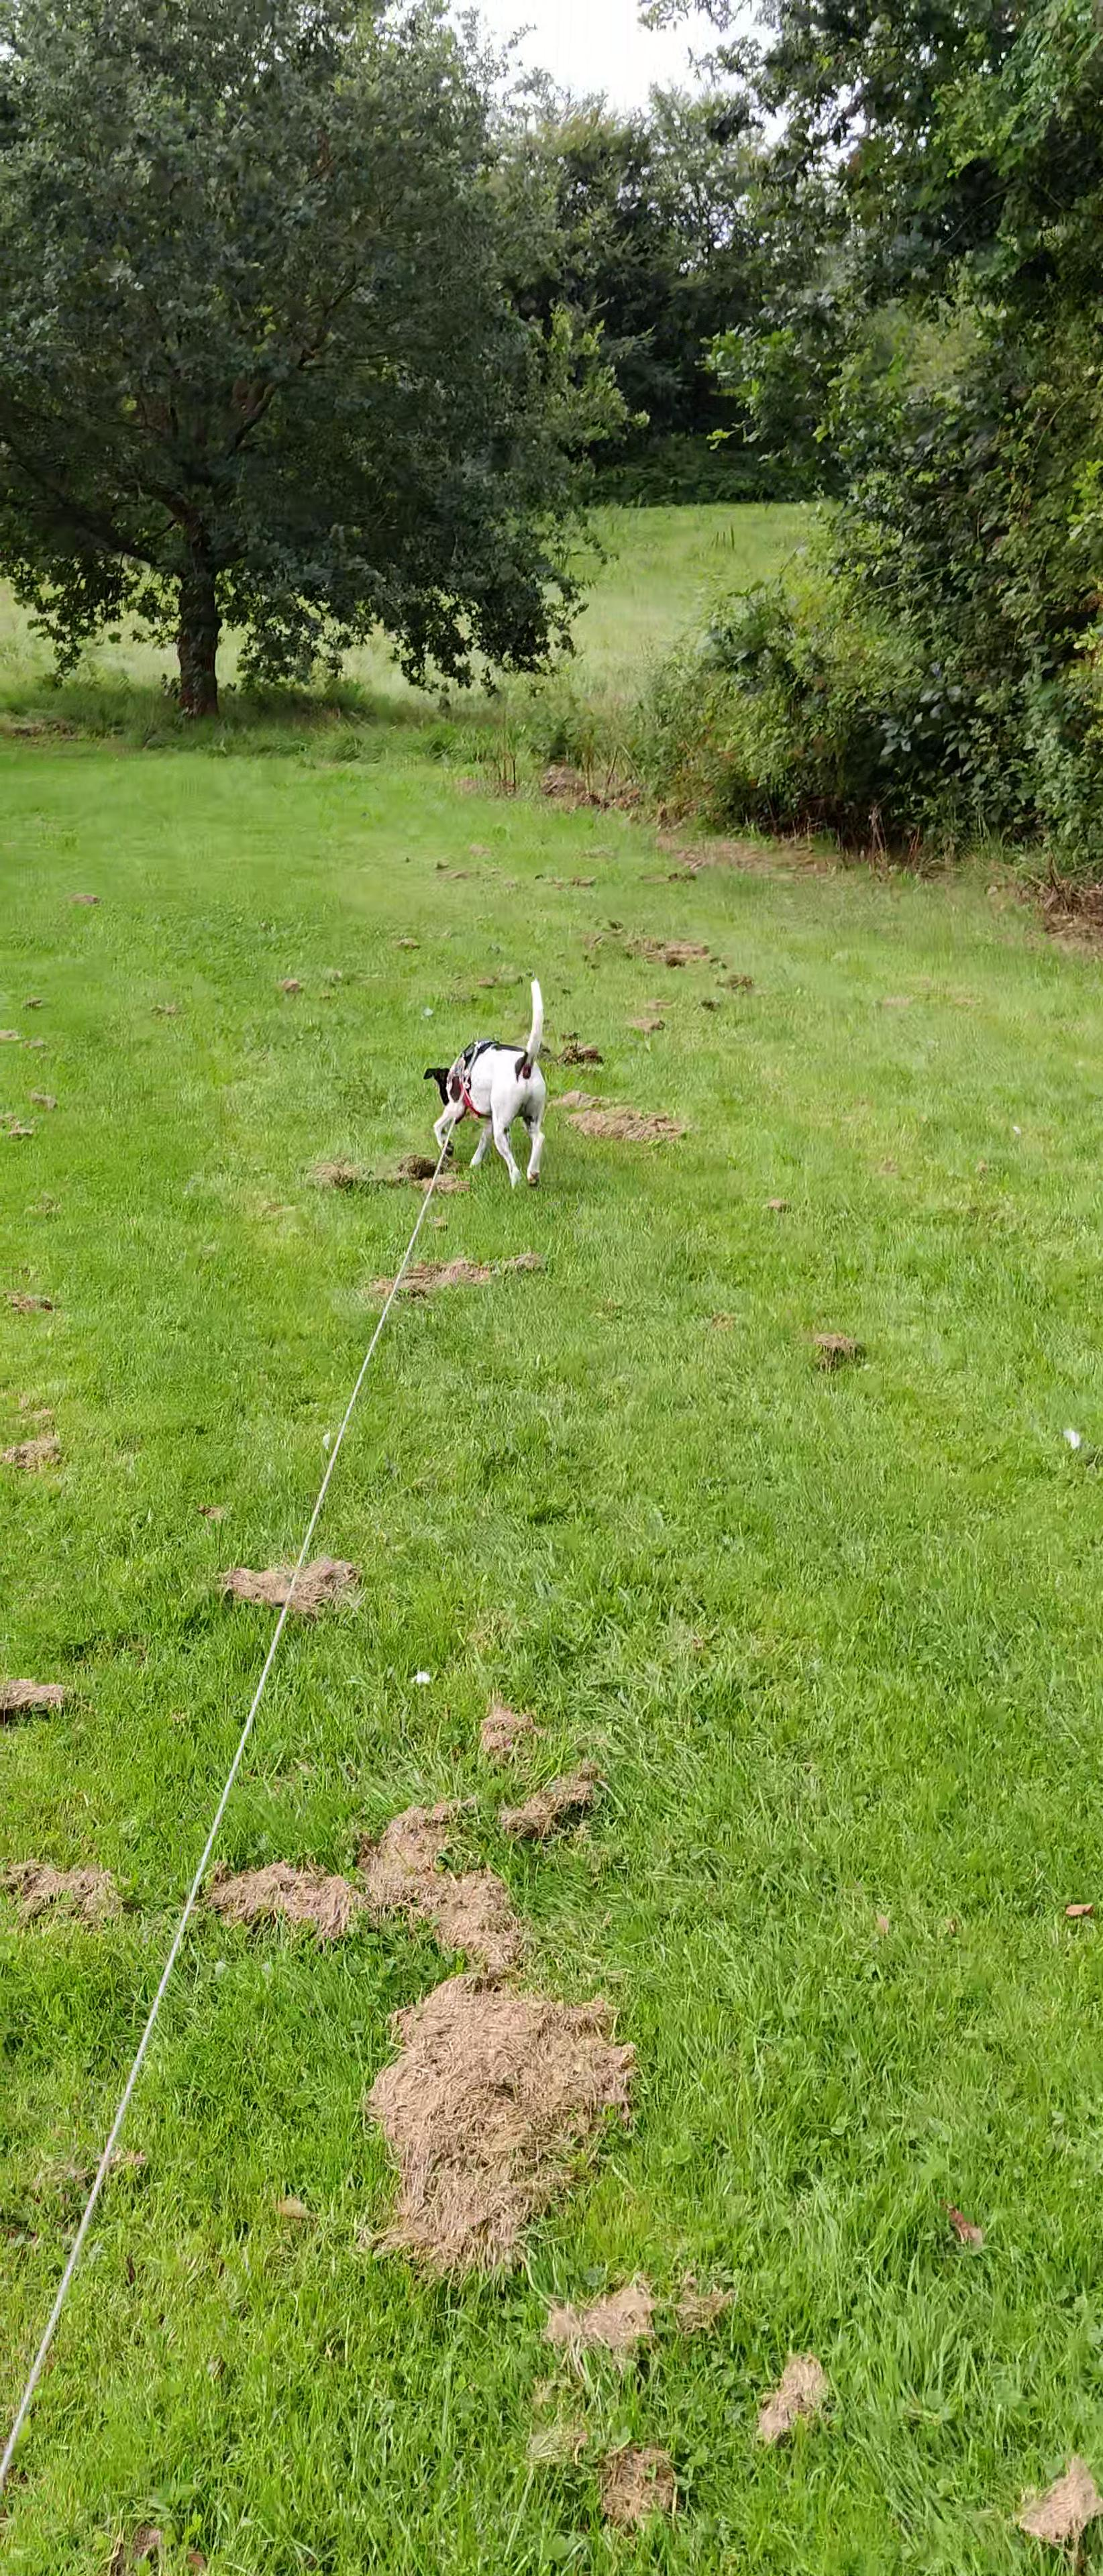Dog: (421, 977, 554, 1193)
